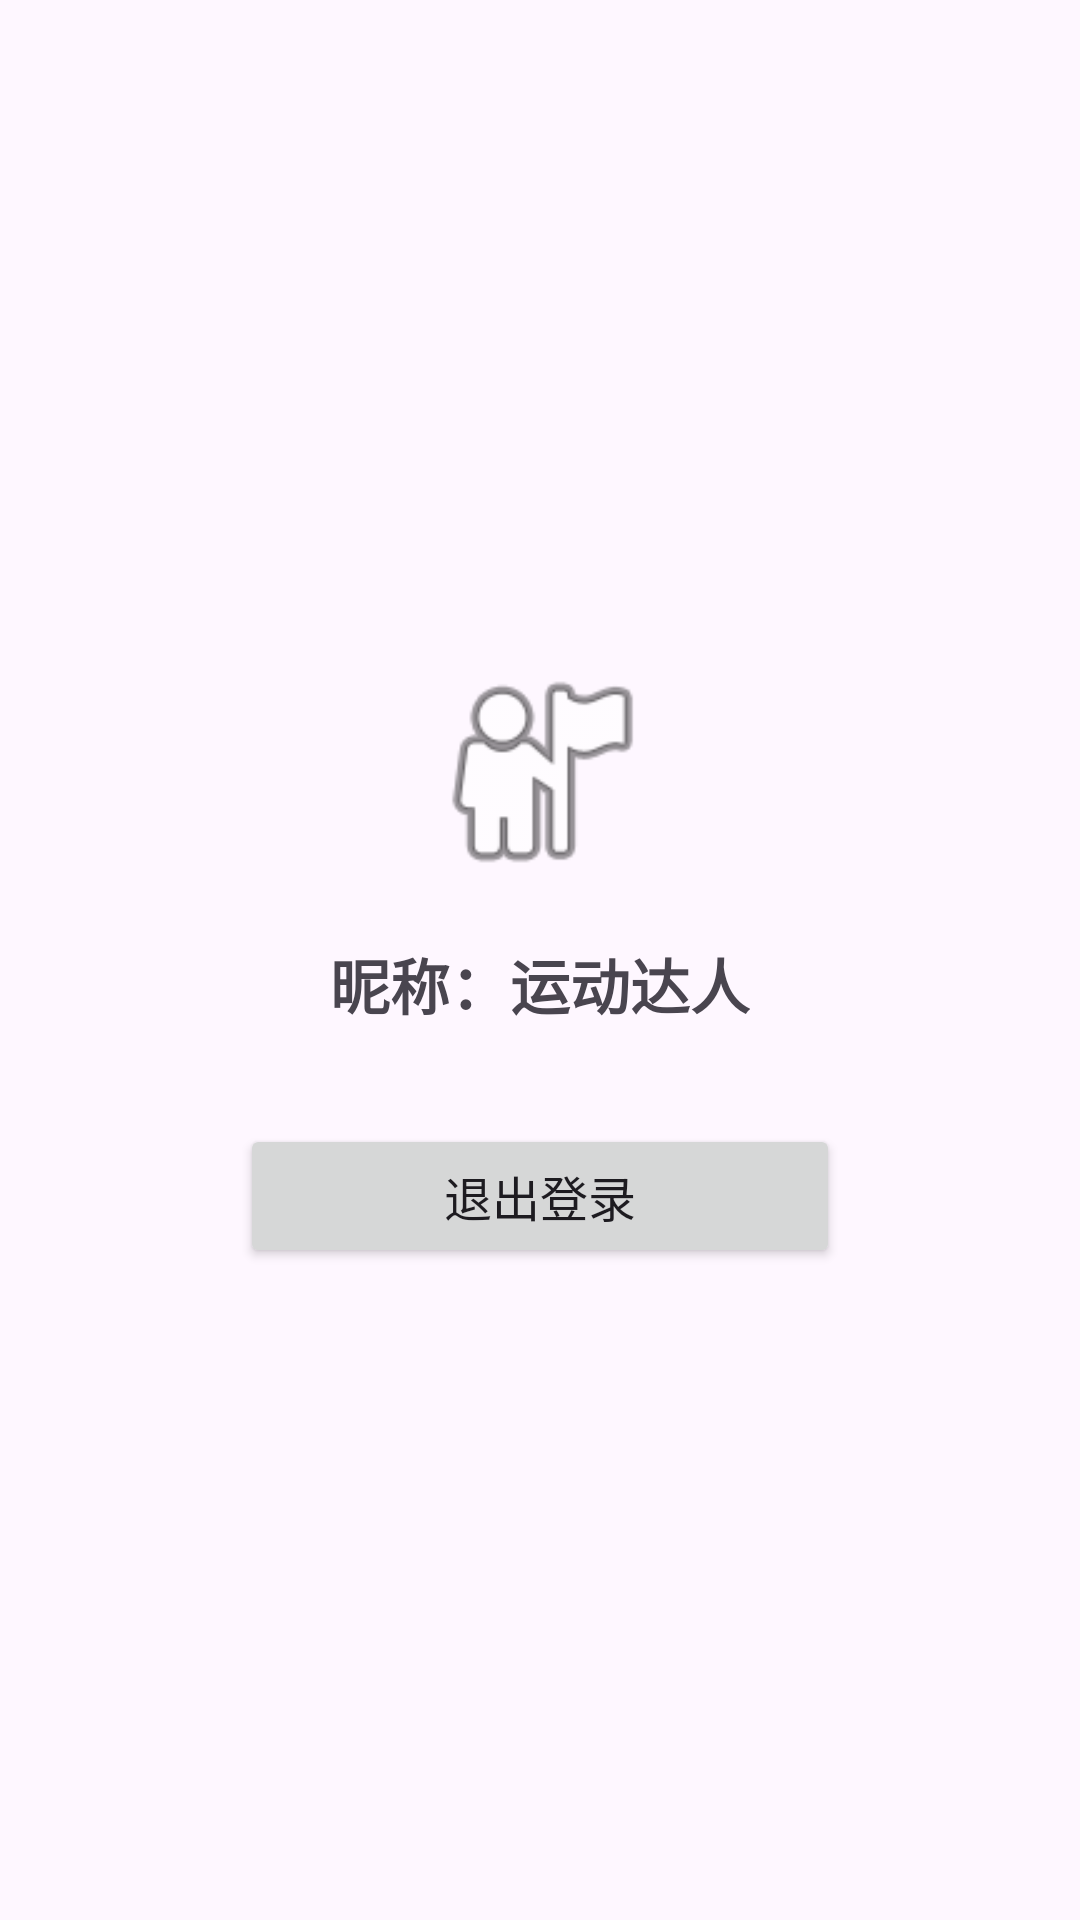

Point at icon controls on the screen. Image size 1080×1920, points as (x=x, y=y).
头像占位: (x=542, y=772)
